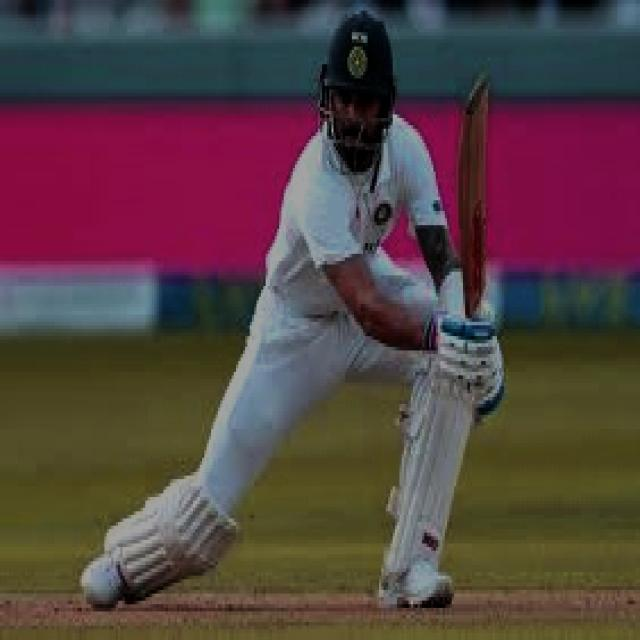bat: (464, 71, 490, 312)
toe: (467, 74, 494, 102)
